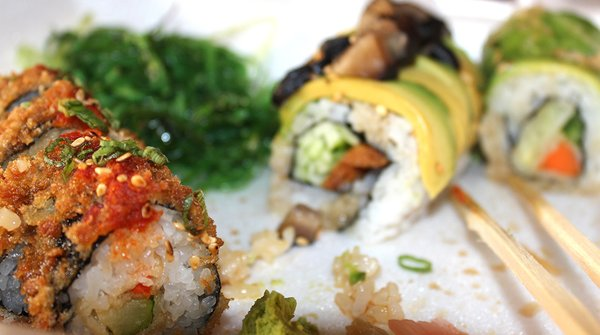curry: (7, 18, 280, 193)
soup: (474, 4, 600, 311)
